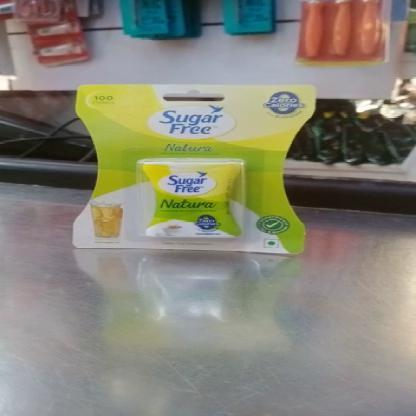SUGAR FREE NATURA 500 PELLET: (74, 84, 308, 255)
